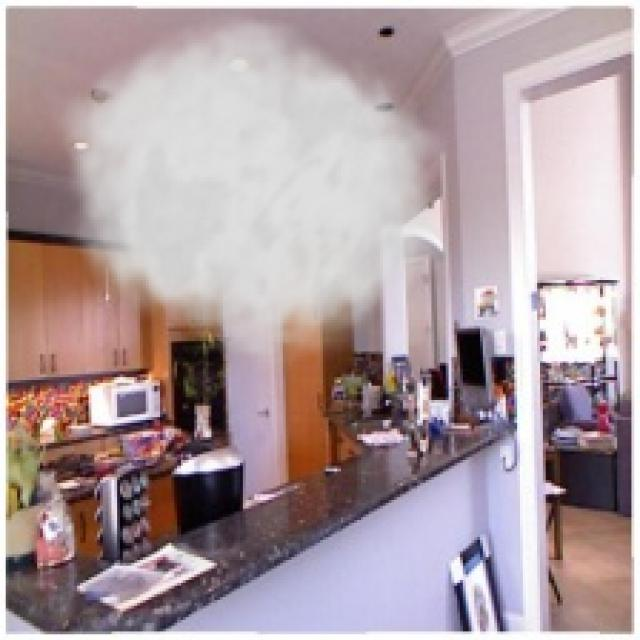smoke: (46, 6, 451, 374)
